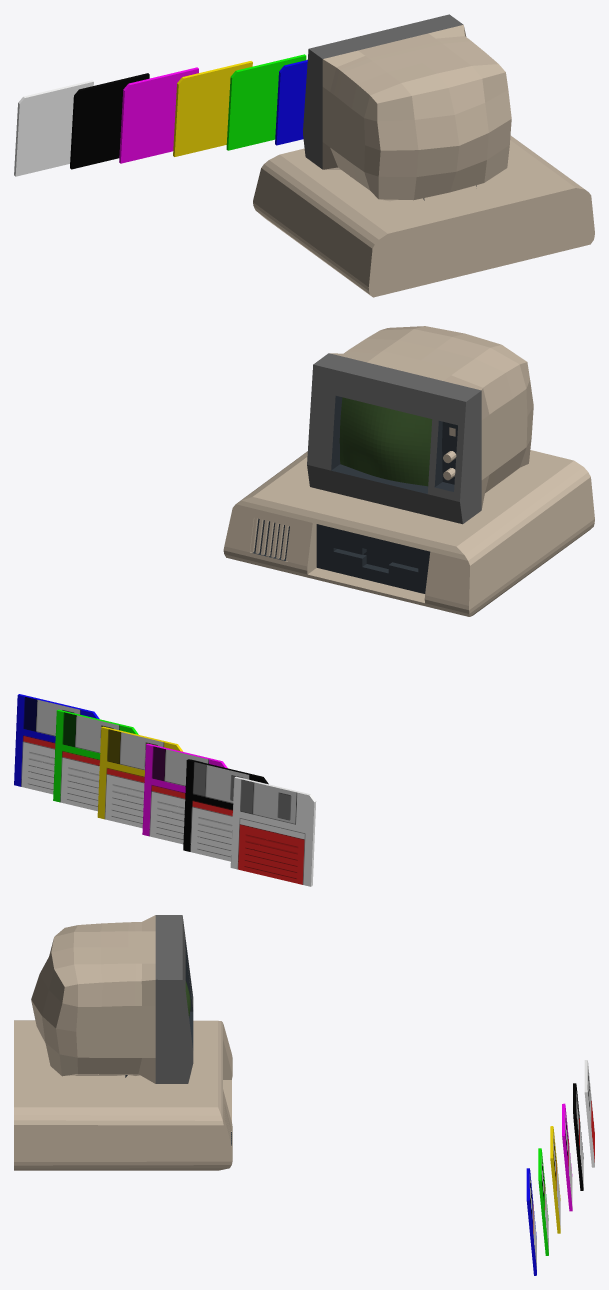
3 views of the same model, one above another, from view 1: azimuth 30°, elevation 25°; view 2: azimuth 150°, elevation 25°; view 3: azimuth 270°, elevation 25° (orthographic). The views are drawn at different scales.
Parts seen in each view (by area): view 1: monitor, pc, floppy-white, floppy-pink, floppy-yellow, floppy-black, floppy-green, floppy-blue; view 2: monitor, pc, floppy-white, floppy-black, floppy-yellow, floppy-green, floppy-pink, floppy-blue; view 3: pc, monitor, floppy-pink, floppy-black, floppy-green, floppy-yellow, floppy-white, floppy-blue.
Part boxes in pixels (x1,y1,x2,y2): monitor: (303,14,511,201); pc: (253,136,594,297); floppy-white: (14,80,93,176); floppy-pink: (119,67,198,163); floppy-yellow: (173,61,252,156); floppy-black: (70,73,149,169); floppy-green: (226,54,306,150); floppy-blue: (275,60,307,145); monitor: (307,326,533,524); pc: (223,450,594,616); floppy-white: (230,776,316,886); floppy-black: (183,759,268,861); floppy-yellow: (97,726,182,828); floppy-green: (53,709,138,811); floppy-pink: (142,743,227,844); floppy-blue: (14,694,99,794); pc: (14,1020,232,1170); monitor: (31,915,193,1083); floppy-pink: (562,1103,572,1211); floppy-black: (573,1083,583,1190); floppy-green: (538,1148,548,1255); floppy-yellow: (550,1126,560,1233); floppy-white: (584,1060,594,1167); floppy-blue: (526,1168,536,1275).
Bounding box in the file's own units: 6.23 × 5.3 × 10.91.
10 materials, 6 textured.
